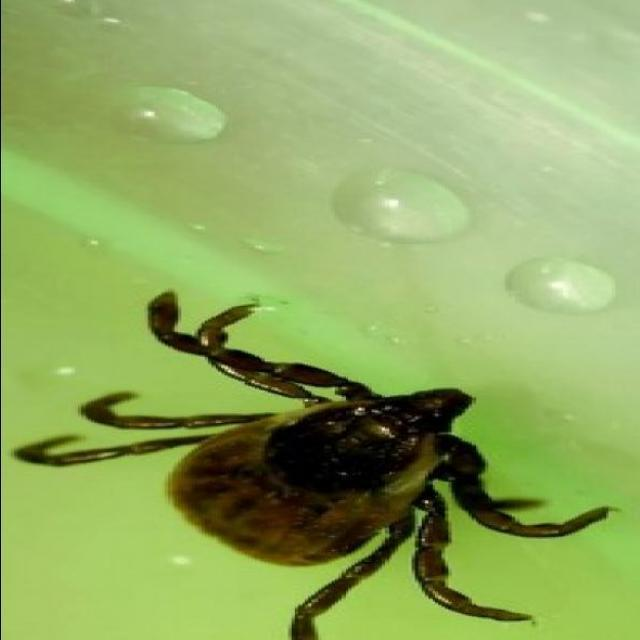Rhipicephalus Sanguineus-F: (13, 289, 614, 640)
